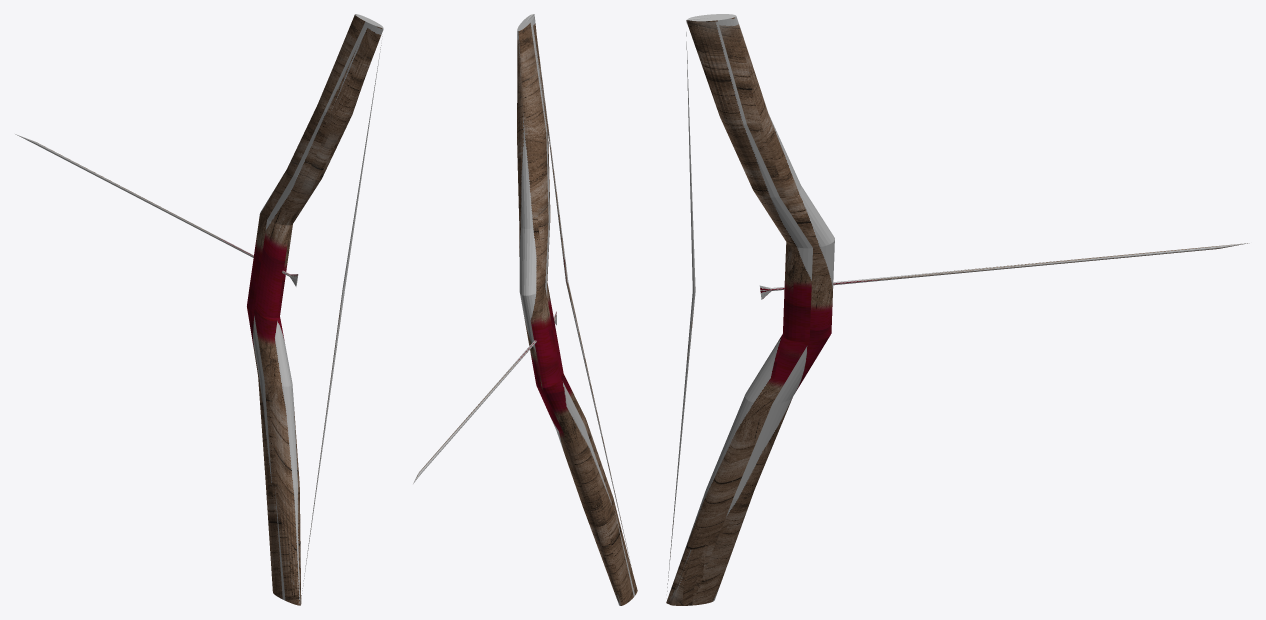
Rendered from Arco19.obj.
The picture shows the model from 3 angles, left to right: view 1: azimuth 30°, elevation 25°; view 2: azimuth 150°, elevation 25°; view 3: azimuth 270°, elevation 25°; orthographic projection. The views are drawn at different scales.
Parts seen in each view (by area): view 1: Cilindro; view 2: Cilindro; view 3: Cilindro.
Boxes of the visible parts, x1=… form: Cilindro: x1=15, y1=14, x2=383, y2=605; Cilindro: x1=413, y1=14, x2=637, y2=605; Cilindro: x1=666, y1=14, x2=1249, y2=605.
Bounding box in the file's own units: 0.2339 × 0.9705 × 0.8083.
1 material, 1 textured.
